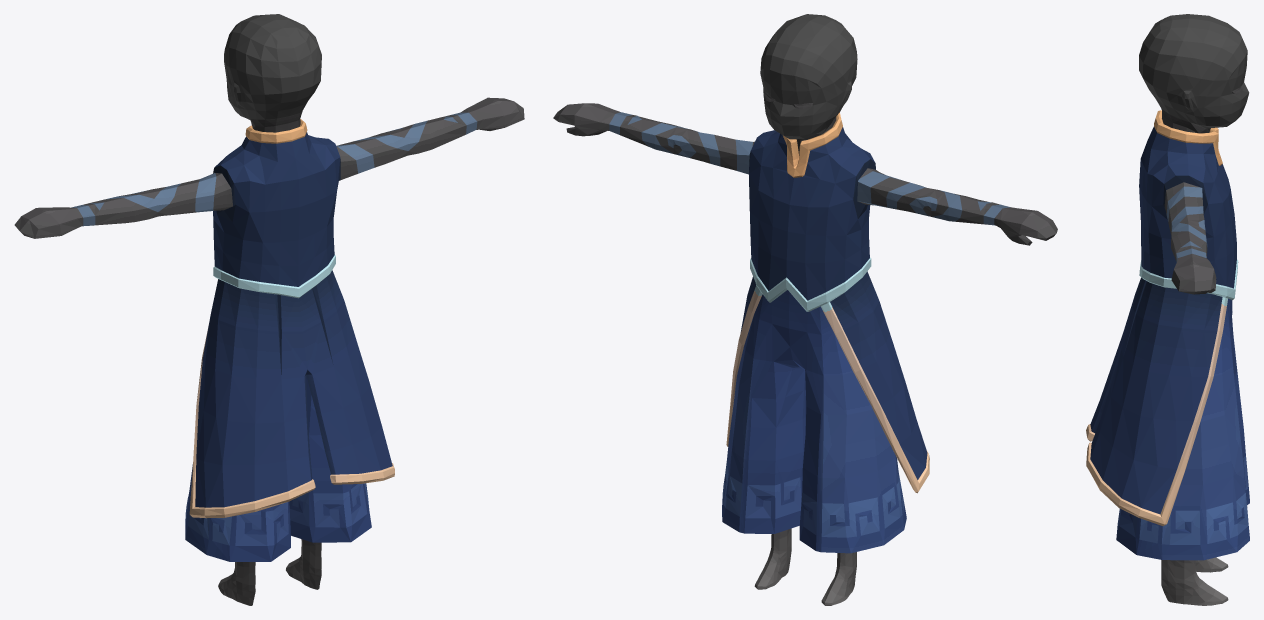
Rendered from CharSkyKid_Body_AP23PianistSuit.glb.
3 views of the same model, side by side, from view 1: azimuth 30°, elevation 25°; view 2: azimuth 150°, elevation 25°; view 3: azimuth 270°, elevation 25° (orthographic).
Parts seen in each view (by area): view 1: CharSkyKid_Body_AP23PianistSuit; view 2: CharSkyKid_Body_AP23PianistSuit; view 3: CharSkyKid_Body_AP23PianistSuit.
Boxes of the visible parts, box(x1,y1,x2,y2) form: CharSkyKid_Body_AP23PianistSuit: box(14, 14, 524, 605); CharSkyKid_Body_AP23PianistSuit: box(553, 14, 1057, 605); CharSkyKid_Body_AP23PianistSuit: box(1086, 14, 1249, 605).
Bounding box in the file's own units: 13.83 × 14.94 × 3.92.
1 material, 1 textured.
